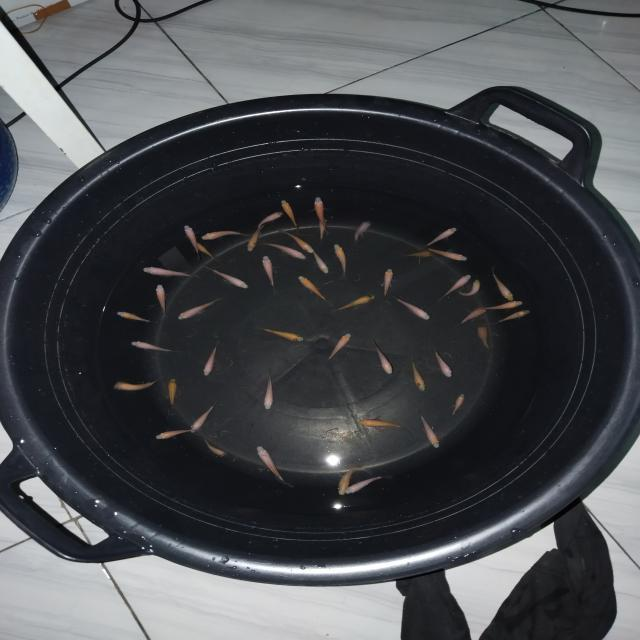nila: (256, 440, 295, 490), (391, 293, 436, 324), (174, 295, 225, 322), (413, 406, 444, 450), (206, 264, 252, 293), (356, 414, 414, 437), (432, 272, 474, 302), (336, 463, 373, 497), (190, 398, 222, 436), (309, 194, 336, 234), (259, 326, 313, 346), (491, 266, 520, 303), (141, 264, 208, 280), (330, 292, 379, 313), (294, 274, 330, 302), (278, 198, 306, 233), (262, 240, 310, 260), (371, 340, 396, 377), (345, 474, 387, 496), (421, 223, 459, 247), (258, 253, 280, 294), (283, 230, 317, 256), (432, 346, 456, 381), (326, 332, 354, 361), (154, 427, 208, 442), (202, 338, 222, 378), (496, 304, 534, 324), (452, 306, 486, 328), (406, 356, 428, 390), (115, 309, 156, 327), (130, 338, 178, 353), (111, 379, 159, 394), (425, 247, 472, 262), (257, 210, 284, 236), (182, 223, 200, 261), (202, 227, 244, 242), (202, 437, 230, 459), (242, 226, 266, 251), (352, 219, 373, 247), (484, 298, 526, 312), (262, 370, 276, 410), (154, 281, 169, 318), (334, 242, 348, 280), (475, 322, 494, 350), (194, 240, 220, 260), (313, 248, 331, 276), (381, 266, 395, 302), (457, 278, 481, 298), (167, 377, 180, 412), (317, 215, 332, 245), (450, 392, 467, 415), (396, 250, 434, 260)
